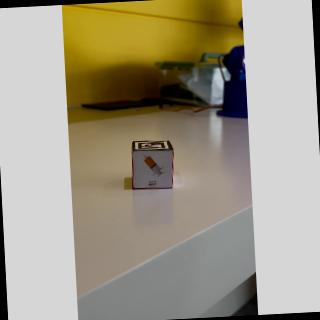Syringe: (130, 150, 176, 192)
